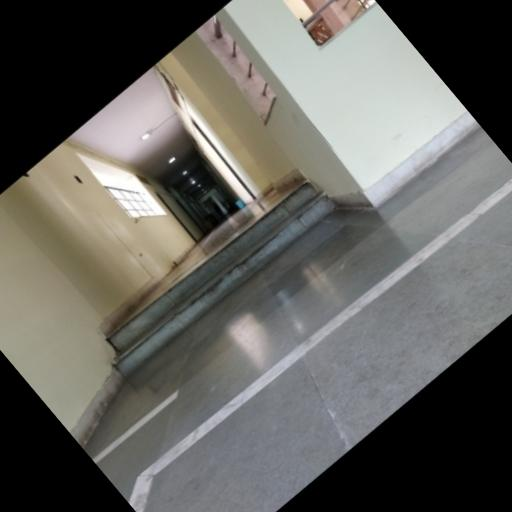stairs: (108, 181, 334, 376)
